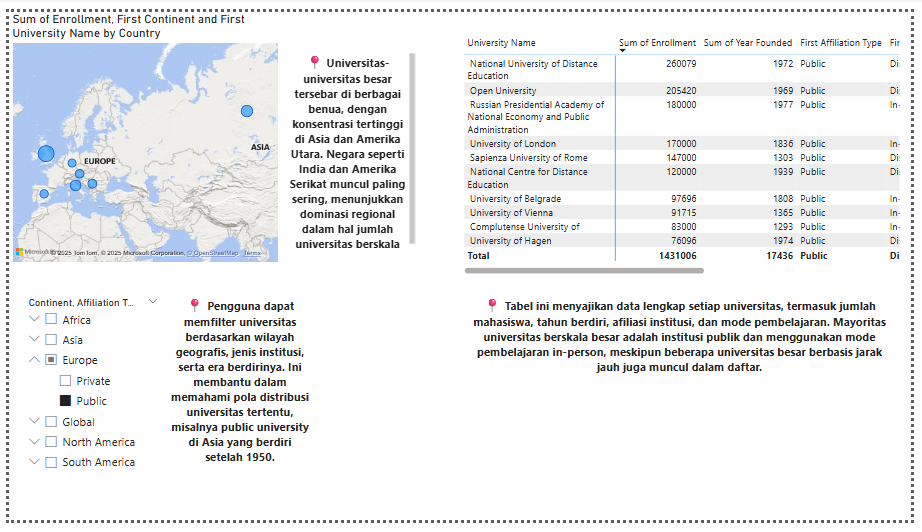

What the dashboard file says about the page in this screenshot:
{"tool":"powerbi","page":{"name":"Page 2","canvas":[1280,720],"ordinal":1},"visuals":[{"type":"slicer","fields":{"Values":["Top-Largest-Universities.Continent","Top-Largest-Universities.Affiliation Type"]},"box":[14.9,397.9,208.5,261.7],"z":0},{"type":"pivotTable","fields":{"Rows":["Top-Largest-Universities.University Name"],"Values":["Sum(Top-Largest-Universities.Enrollment)","Sum(Top-Largest-Universities.Year Founded)","Min(Top-Largest-Universities.Affiliation Type)","Min(Top-Largest-Universities.Learning Mode)","Min(Top-Largest-Universities.Country)","Min(Top-Largest-Universities.Continent)"]},"box":[640.4,27.7,627.7,348.9],"z":1000},{"type":"map","fields":{"Category":["Top-Largest-Universities.Country"],"Size":["Sum(Top-Largest-Universities.Enrollment)"]},"box":[0,0,387.2,359.6],"z":2000},{"type":"textbox","box":[387.2,53.2,193.6,295.7],"z":2001},{"type":"textbox","box":[640.4,397.9,621.3,148.9],"z":2002},{"type":"textbox","box":[223.4,397.9,208.5,261.7],"z":2003}]}

Visuals, with their boxes in screenshot pixels (x1, y1, x2, y2), scaled from the page's 1280x720 canvas onto the 922x532 screenshot:
slicer - Top-Largest-Universities.Continent x Top-Largest-Universities.Affiliation Type: x1=11, y1=294, x2=161, y2=487
pivotTable - Top-Largest-Universities.University Name x Sum(Top-Largest-Universities.Enrollment): x1=461, y1=20, x2=913, y2=278
map - Top-Largest-Universities.Country x Sum(Top-Largest-Universities.Enrollment): x1=0, y1=0, x2=279, y2=266
textbox: x1=279, y1=39, x2=418, y2=258
textbox: x1=461, y1=294, x2=909, y2=404
textbox: x1=161, y1=294, x2=311, y2=487
